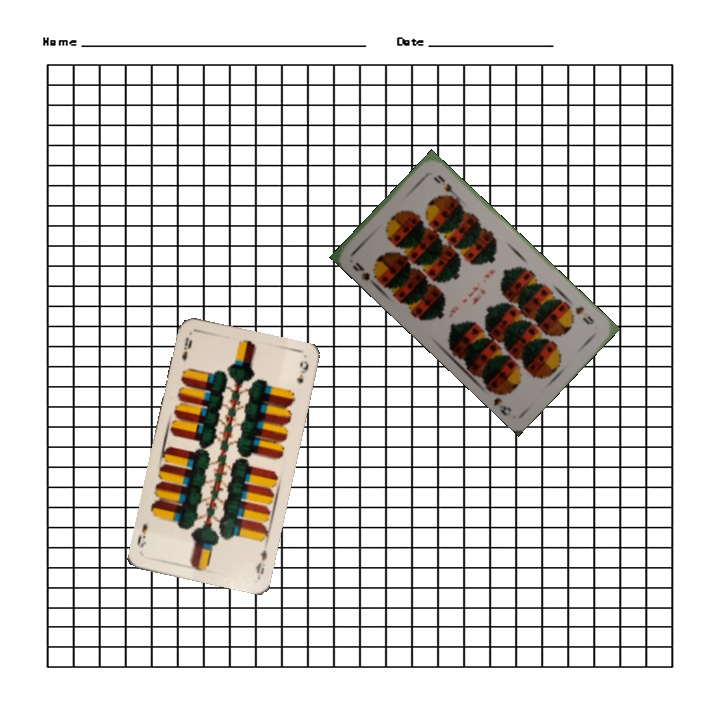E9: (252, 546, 270, 580), (178, 333, 195, 365)
S9: (348, 258, 382, 289), (571, 302, 596, 327)
